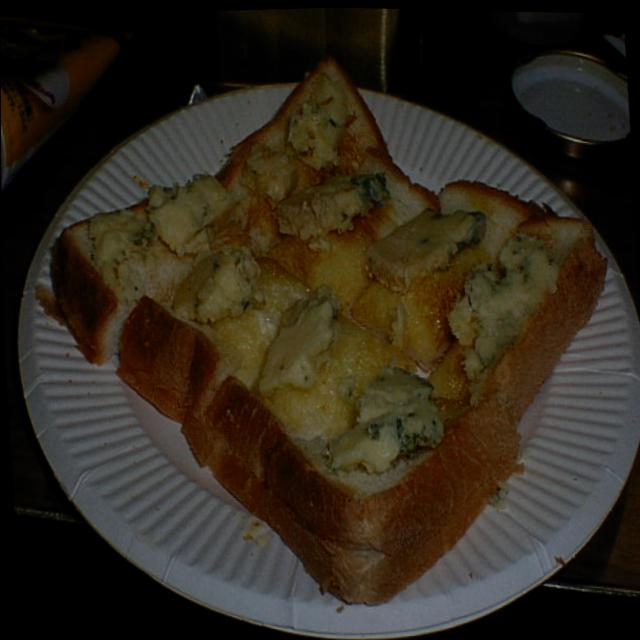面包点心: (12, 42, 607, 503)
